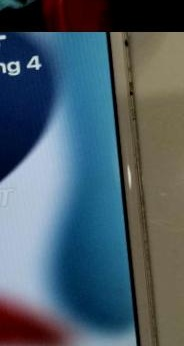scratch: (116, 100, 175, 346)
